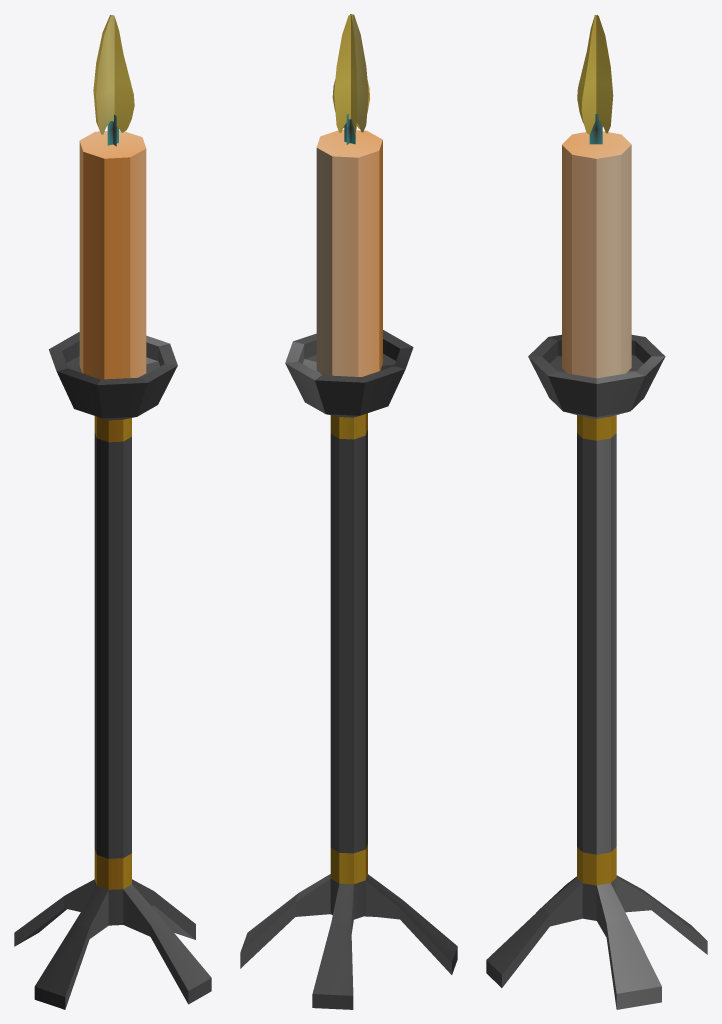
The model's file is candle_338x14.obj.
3 views of the same model, side by side, from view 1: azimuth 30°, elevation 25°; view 2: azimuth 150°, elevation 25°; view 3: azimuth 270°, elevation 25° (orthographic).
Visible parts, largest first — view 1: Candle_338x14; view 2: Candle_338x14; view 3: Candle_338x14.
Boxes of the visible parts, bbox=[...] form: Candle_338x14: bbox=[14, 15, 211, 1009]; Candle_338x14: bbox=[240, 14, 457, 1009]; Candle_338x14: bbox=[486, 14, 707, 1009].
Bounding box in the file's own units: 0.4538 × 2.26 × 0.4768.
